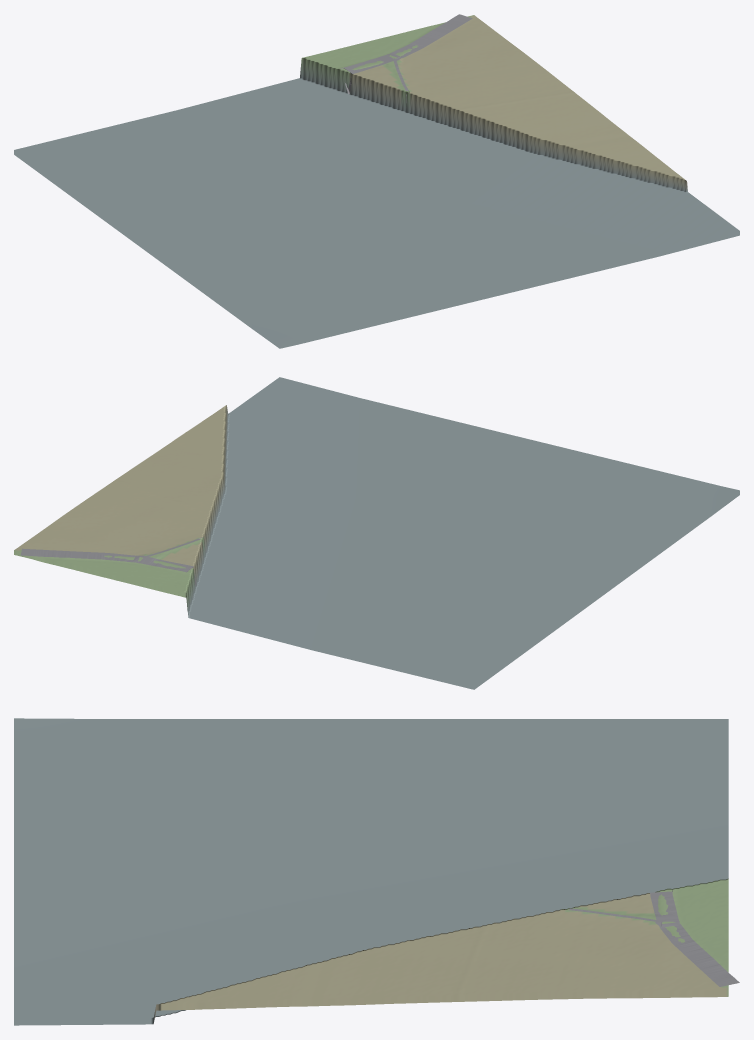
The picture shows the model from 3 angles, top to bottom: view 1: azimuth 30°, elevation 25°; view 2: azimuth 150°, elevation 25°; view 3: azimuth 270°, elevation 25°; orthographic projection. The views are drawn at different scales.
Visible parts, largest first — view 1: prim0, prim1; view 2: prim0, prim1; view 3: prim0, prim1.
Boxes of the visible parts, bbox=[...] form: prim0: bbox=[14, 15, 739, 348]; prim1: bbox=[340, 14, 472, 107]; prim0: bbox=[14, 377, 739, 689]; prim1: bbox=[20, 537, 202, 585]; prim0: bbox=[14, 718, 728, 1025]; prim1: bbox=[569, 890, 739, 986].
Size of the model in its own units: 512 by 29.58 by 520.
